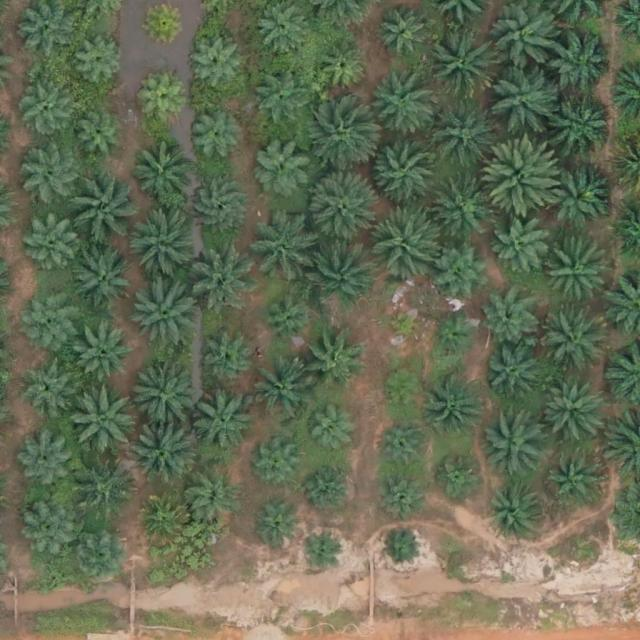Healthy: (486, 139, 564, 218), (305, 172, 376, 243), (487, 63, 557, 134), (425, 30, 496, 100), (366, 72, 436, 143), (370, 134, 440, 205), (304, 104, 374, 175), (306, 236, 376, 307), (127, 277, 197, 348), (129, 212, 199, 283), (67, 385, 137, 456), (491, 4, 562, 74), (428, 100, 498, 170), (369, 208, 439, 278), (187, 240, 257, 310), (130, 419, 200, 489), (125, 359, 195, 429), (65, 174, 135, 244), (539, 381, 602, 444), (430, 176, 493, 239), (252, 135, 315, 198), (70, 247, 133, 310), (550, 37, 613, 99), (554, 95, 616, 158), (544, 162, 607, 224), (545, 243, 607, 306), (542, 313, 604, 376), (432, 239, 494, 302), (302, 331, 364, 394), (248, 362, 310, 425), (248, 219, 310, 282), (192, 392, 254, 455), (131, 142, 193, 205), (72, 458, 134, 521), (21, 145, 83, 208), (426, 373, 488, 436), (484, 413, 546, 475), (189, 178, 251, 240), (483, 347, 538, 403), (252, 72, 307, 128), (550, 454, 605, 509), (489, 485, 544, 540), (482, 293, 537, 348), (378, 419, 433, 474), (373, 470, 428, 525), (134, 494, 189, 549), (315, 41, 370, 96), (261, 293, 316, 348), (187, 37, 242, 92), (187, 473, 242, 528), (78, 330, 133, 385), (72, 531, 127, 586), (23, 502, 78, 557), (17, 435, 72, 490), (17, 359, 72, 414), (16, 82, 71, 137), (378, 7, 433, 62), (493, 218, 547, 273), (188, 109, 242, 164), (202, 336, 256, 391), (73, 34, 127, 89), (71, 112, 125, 167), (23, 289, 77, 344), (25, 217, 79, 272)
Small: (306, 408, 353, 456), (307, 463, 354, 511), (431, 313, 478, 361), (436, 452, 483, 499), (256, 443, 303, 490), (254, 506, 301, 553), (381, 368, 428, 415), (383, 528, 422, 568), (385, 306, 424, 345), (300, 531, 339, 570)
Yellow: (139, 78, 186, 125)
